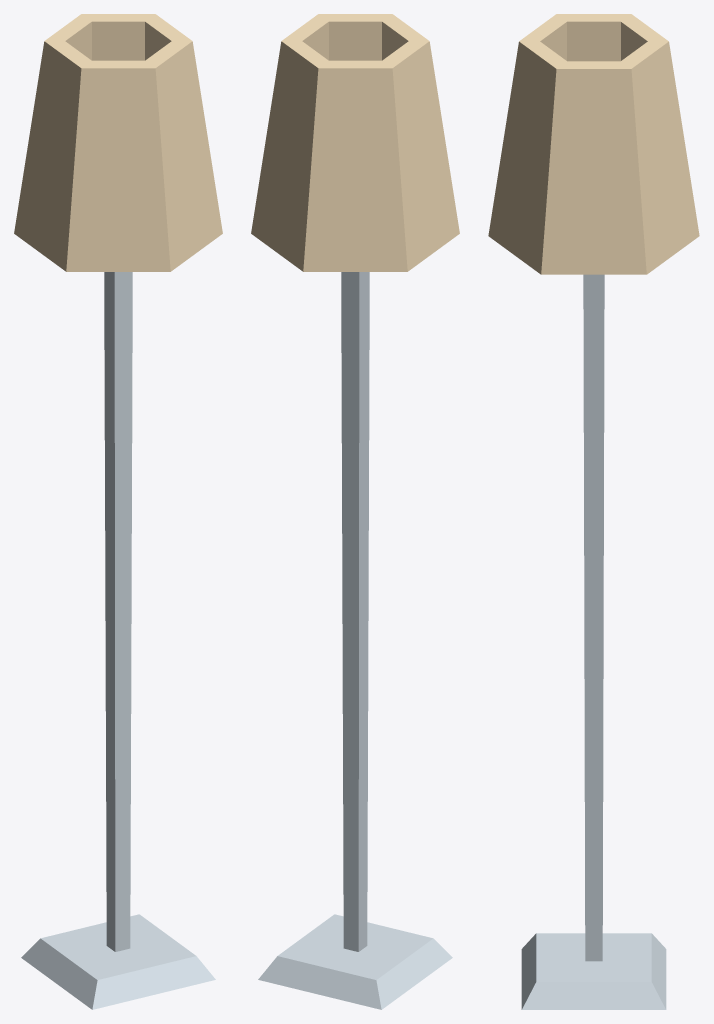
Rendered from lampRoundFloor.glb.
3 renders of one model, left to right at view 1: azimuth 30°, elevation 25°; view 2: azimuth 150°, elevation 25°; view 3: azimuth 270°, elevation 25°, orthographic.
Visible parts, largest first — view 1: lampRoundFloor(Clone); view 2: lampRoundFloor(Clone); view 3: lampRoundFloor(Clone).
Part boxes in pixels (x1,y1,x2,y2): lampRoundFloor(Clone): (14, 14, 222, 1009); lampRoundFloor(Clone): (251, 14, 459, 1009); lampRoundFloor(Clone): (488, 14, 699, 1009).
Size of the model in its own units: 0.152 by 0.86 by 0.1756.
